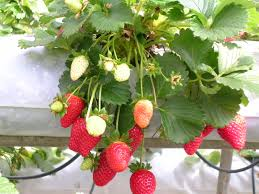ripe: (103, 137, 132, 173), (58, 92, 87, 128), (92, 152, 118, 189), (67, 125, 98, 153), (128, 166, 157, 193), (183, 118, 202, 156), (127, 123, 144, 154), (198, 119, 215, 138)
unripe: (216, 107, 250, 155), (131, 97, 153, 131), (69, 52, 90, 82), (87, 113, 106, 137), (112, 63, 131, 82), (79, 156, 95, 172), (100, 58, 114, 74), (50, 98, 64, 112)
